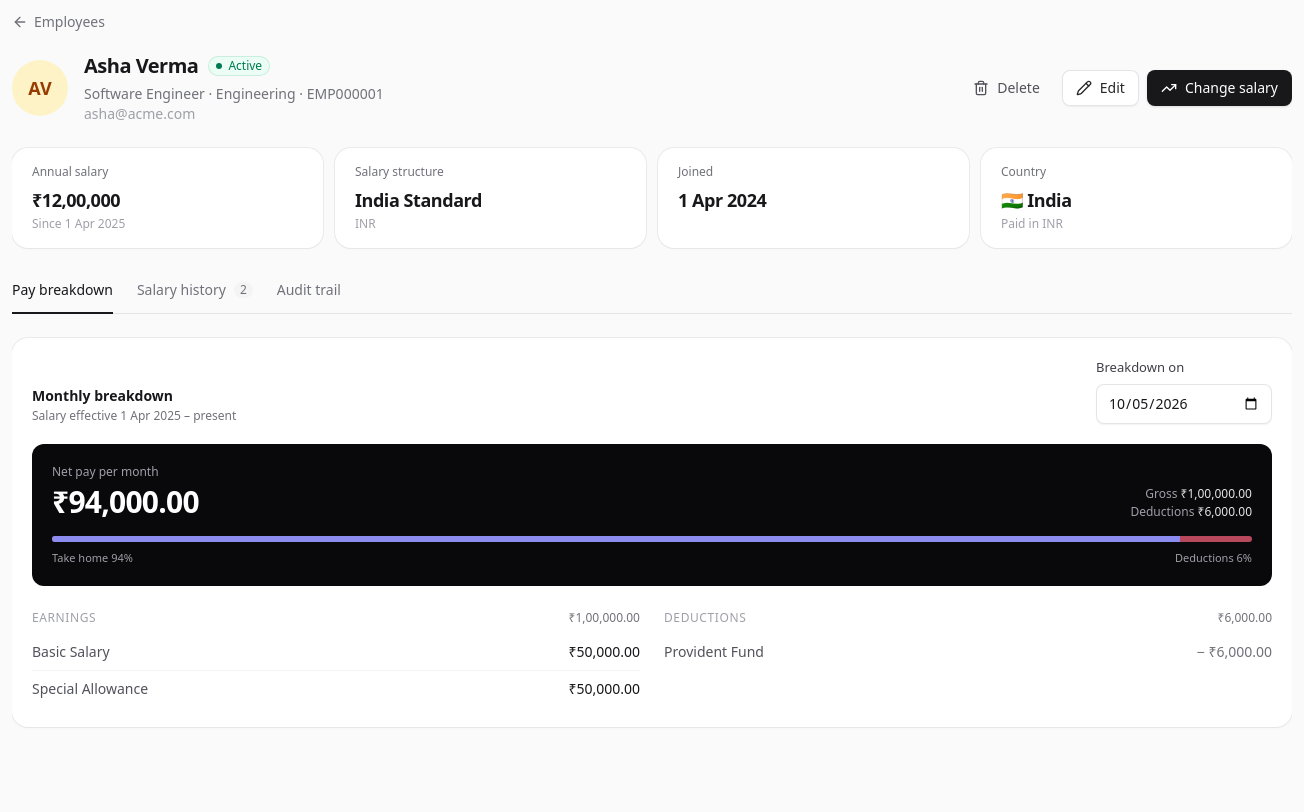
Scenario: EmployeeDetailPage › shows salary history with change types
Click the tab "Salary history 2": (195, 297) x1=137 y1=280 x2=253 y2=314
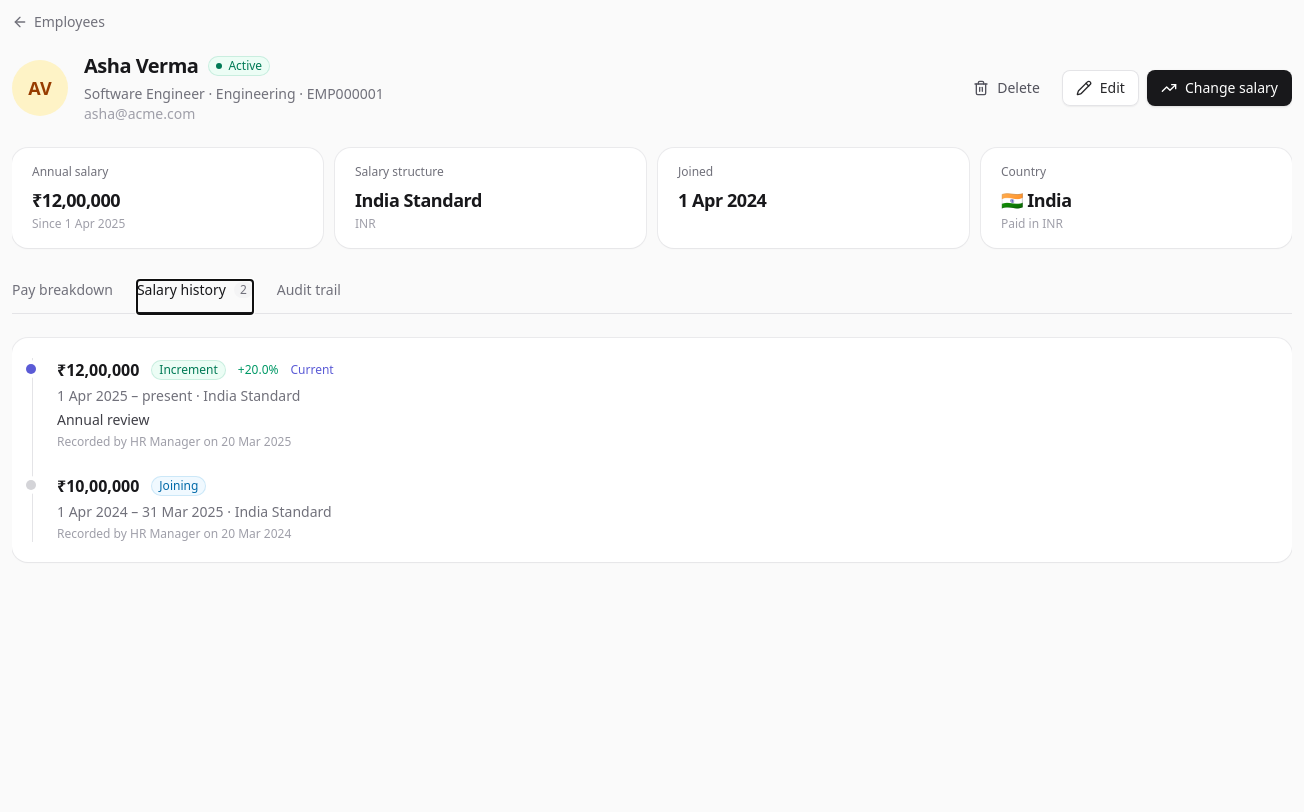
Expected: the text "Increment" is shown, x1=151 y1=360 x2=226 y2=380
Expected: the text "Joining" is shown, x1=151 y1=476 x2=206 y2=496
Expected: the text "Annual review" is shown, x1=57 y1=410 x2=150 y2=429
